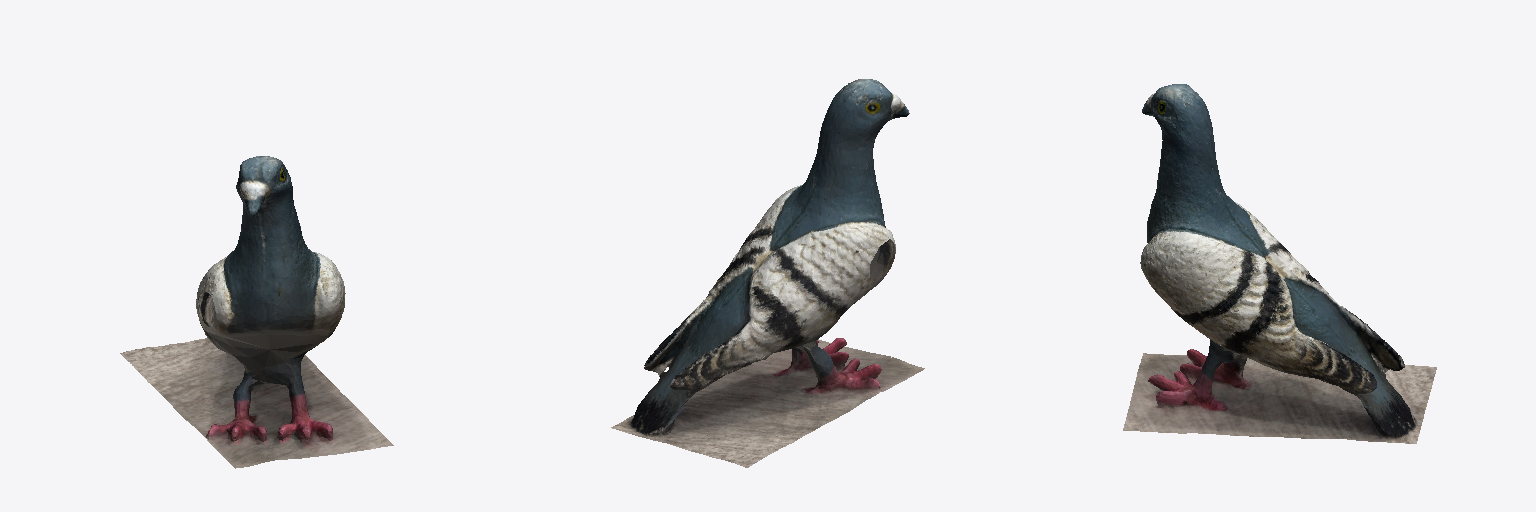
3 renders of one model, left to right at view 1: azimuth 30°, elevation 25°; view 2: azimuth 150°, elevation 25°; view 3: azimuth 270°, elevation 25°, orthographic.
Visible parts, largest first — view 1: Object; view 2: Object; view 3: Object.
Part boxes in pixels (x1,y1,x2,y2): Object: (120,156,393,468); Object: (611,79,924,467); Object: (1123,84,1436,443).
Bounding box in the file's own units: 0.3952 × 0.6195 × 0.6026.
1 materials, 1 textured.